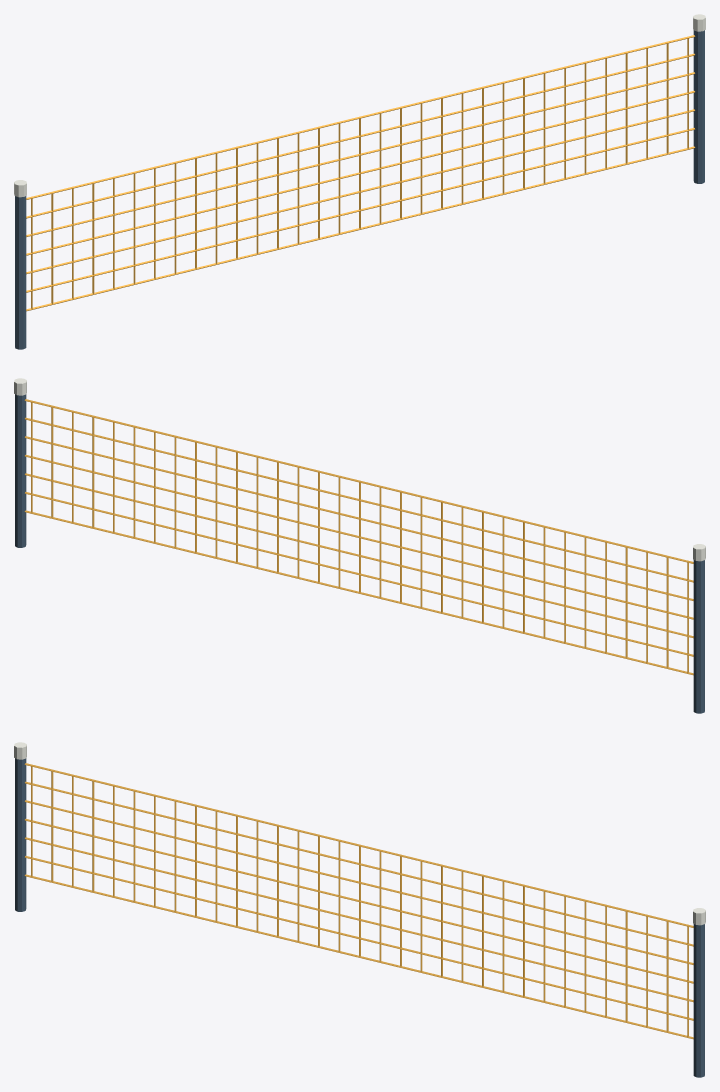
Rendered from safety-fence-fog.glb.
3 renders of one model, top to bottom at view 1: azimuth 30°, elevation 25°; view 2: azimuth 150°, elevation 25°; view 3: azimuth 330°, elevation 25°, orthographic.
Parts seen in each view (by area): view 1: safety-fence-fog; view 2: safety-fence-fog; view 3: safety-fence-fog.
Boxes of the visible parts, left/top/right/bottom form: safety-fence-fog: left=14, top=14, right=705, bottom=349; safety-fence-fog: left=14, top=378, right=705, bottom=713; safety-fence-fog: left=14, top=742, right=705, bottom=1077.
Size of the model in its own units: 6.1 by 1.39 by 0.104.
